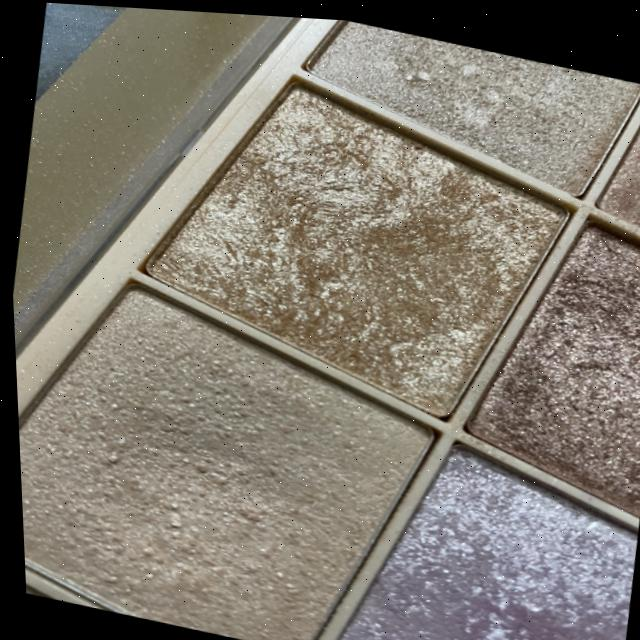highlighter: (114, 36, 612, 447), (9, 244, 470, 640), (279, 387, 640, 640), (249, 12, 640, 210), (434, 159, 640, 534), (558, 64, 640, 270)
